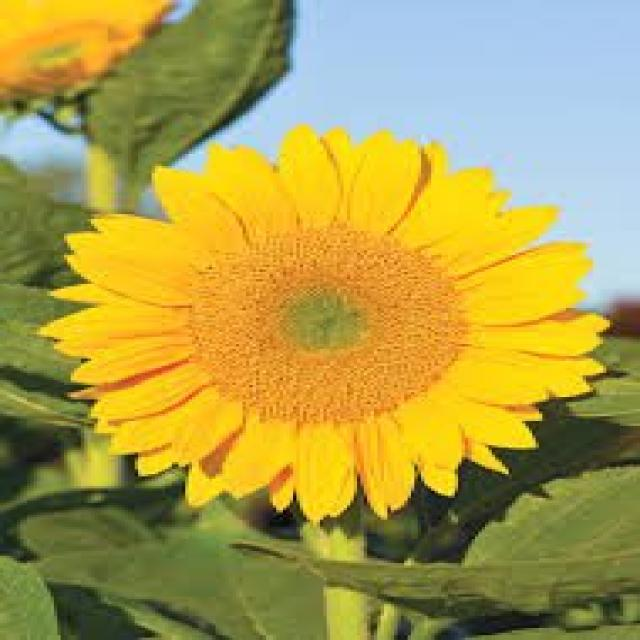sunflower: (37, 122, 613, 526)
